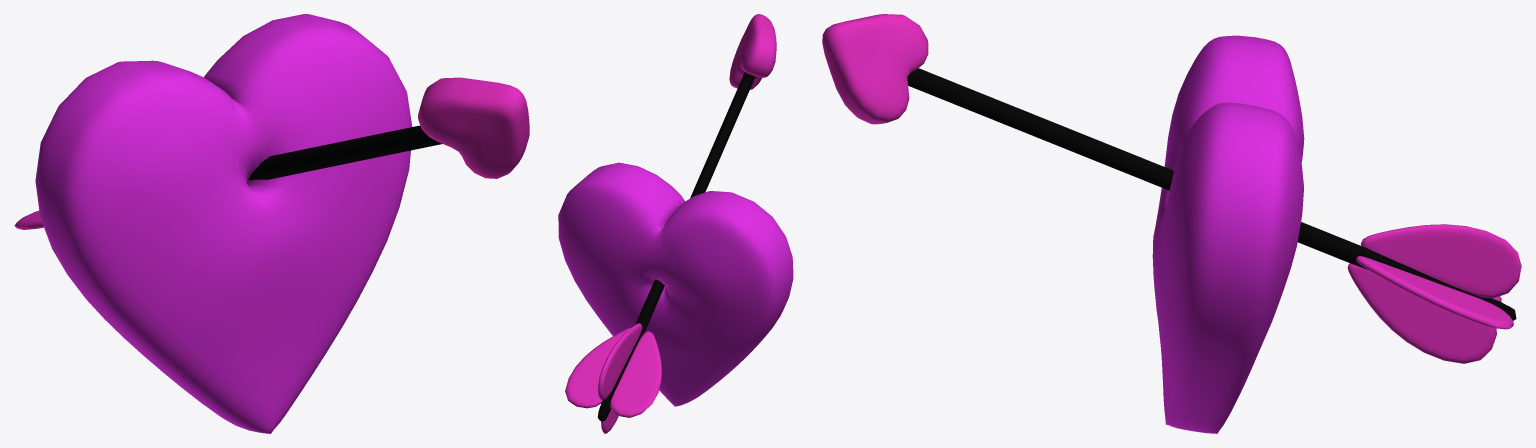
The model's file is heart_with_arrow FBX.glb.
3 views of the same model, side by side, from view 1: azimuth 30°, elevation 25°; view 2: azimuth 150°, elevation 25°; view 3: azimuth 270°, elevation 25° (orthographic). The views are drawn at different scales.
Parts seen in each view (by area): view 1: Group48247, arrow, Ar2; view 2: Group48247, Ar3, Ar2, arrow; view 3: Group48247, Ar3, arrow, Ar2.
Boxes of the visible parts, x1,y1,x2,y2 form: Group48247: [35, 14, 412, 433]; arrow: [418, 77, 529, 178]; Ar2: [248, 125, 441, 180]; Group48247: [558, 162, 793, 406]; Ar3: [565, 323, 661, 433]; Ar2: [597, 72, 755, 421]; arrow: [729, 14, 776, 89]; Group48247: [1152, 35, 1304, 433]; Ar3: [1347, 224, 1521, 363]; arrow: [822, 14, 928, 124]; Ar2: [907, 68, 1516, 320].
Bounding box in the file's own units: 0.5753 × 0.7306 × 1.05.
